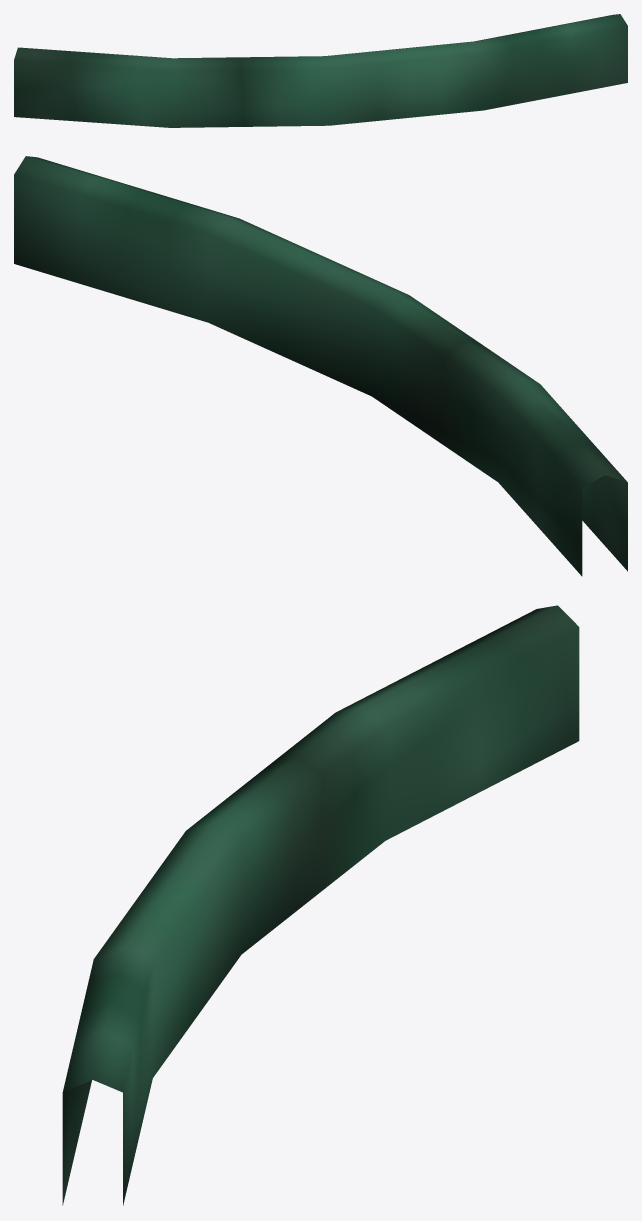
File: Ring31.fbx
3 views of the same model, one above another, from view 1: azimuth 30°, elevation 25°; view 2: azimuth 150°, elevation 25°; view 3: azimuth 270°, elevation 25° (orthographic). The views are drawn at different scales.
Visible parts, largest first — view 1: Ring31; view 2: Ring31; view 3: Ring31.
Boxes of the visible parts, x1=… form: Ring31: x1=14, y1=14, x2=627, y2=127; Ring31: x1=14, y1=156, x2=627, y2=576; Ring31: x1=62, y1=605, x2=579, y2=1205.
Size of the model in its own units: 3274 by 400 by 1478.
